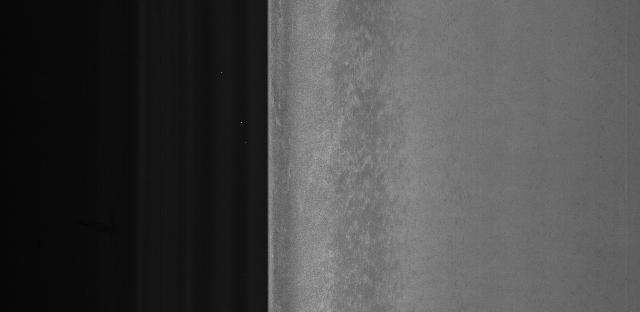silk_spot: (334, 45, 424, 312)
